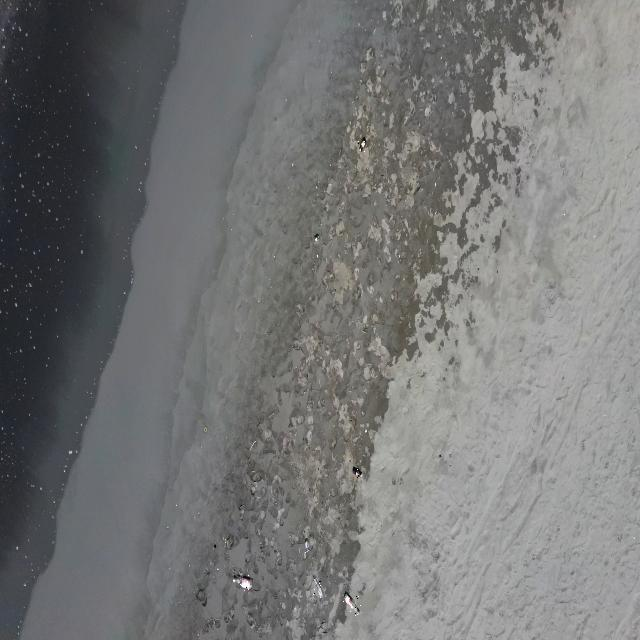glass: (344, 591, 362, 616), (233, 575, 253, 591), (313, 576, 324, 599), (358, 136, 366, 152), (352, 467, 362, 479), (304, 537, 310, 553), (314, 233, 320, 244)
